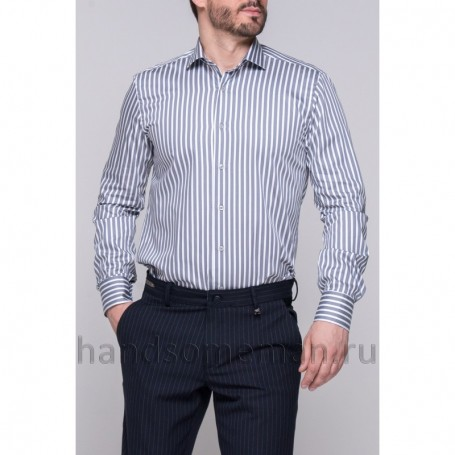striped: (89, 35, 370, 335)
